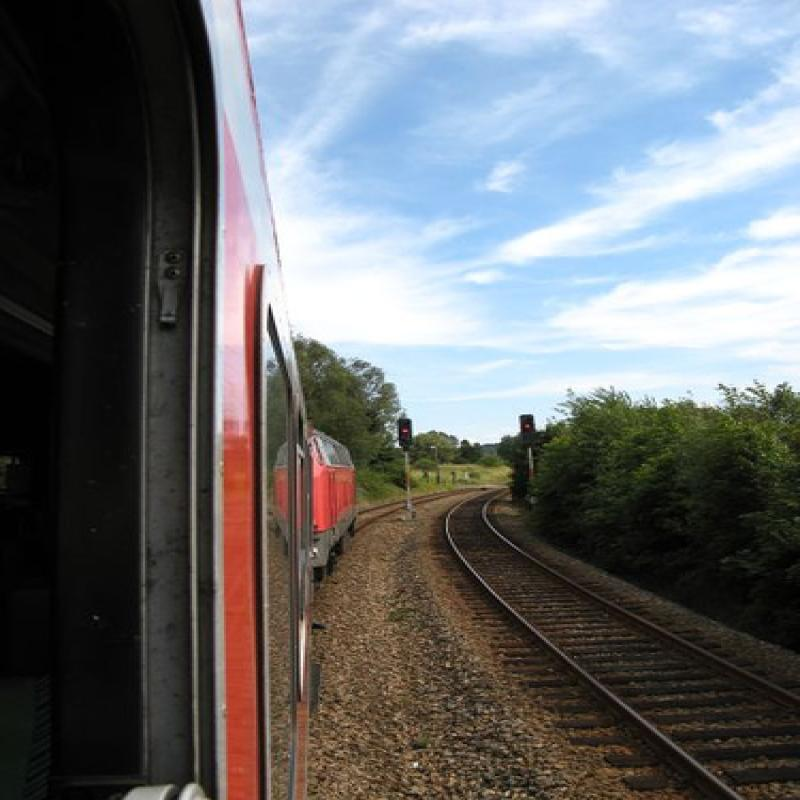train: (1, 1, 359, 799)
